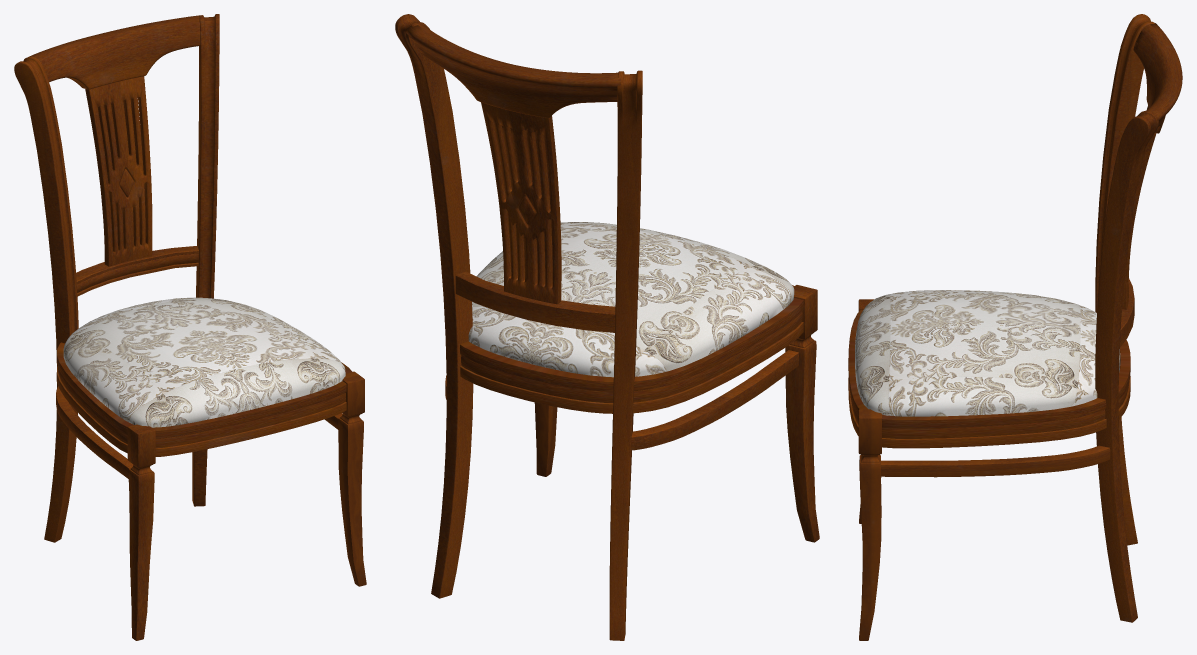
File: chair2.FBX
The picture shows the model from 3 angles, left to right: view 1: azimuth 30°, elevation 25°; view 2: azimuth 150°, elevation 25°; view 3: azimuth 270°, elevation 25°; orthographic projection. The views are drawn at different scales.
Visible parts, largest first — view 1: chair; view 2: chair; view 3: chair.
Part boxes in pixels (x1,y1,x2,y2): chair: [14, 14, 366, 640]; chair: [395, 14, 819, 640]; chair: [848, 14, 1182, 640].
Size of the model in its own units: 48.81 by 96.8 by 56.9.
